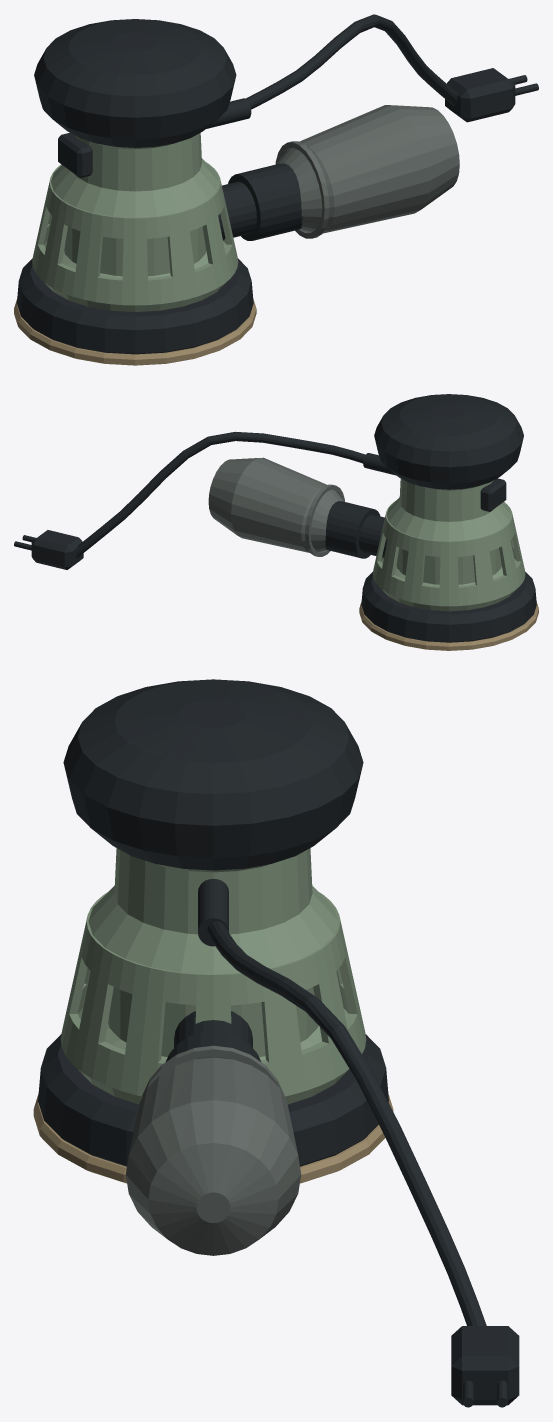
The model's file is full.glb.
3 views of the same model, one above another, from view 1: azimuth 30°, elevation 25°; view 2: azimuth 150°, elevation 25°; view 3: azimuth 270°, elevation 25° (orthographic). The views are drawn at different scales.
Visible parts, largest first — view 1: Broad rounded padded palm cap, Closed generic cloth collection bag, Lower body with twelve open vents, Motor core and narrow waist, Round pad and backing, Dustbag connector collar, Complete authored cable, Nominal127mm abrasive disk, Generic cable plug, Lower hollow dust port, Small supported side switch, Bag connector seam (+1 smaller); view 2: Broad rounded padded palm cap, Closed generic cloth collection bag, Lower body with twelve open vents, Motor core and narrow waist, Round pad and backing, Complete authored cable, Dustbag connector collar, Nominal127mm abrasive disk, Generic cable plug, Lower hollow dust port, Small supported side switch, Bag connector seam (+1 smaller); view 3: Broad rounded padded palm cap, Closed generic cloth collection bag, Motor core and narrow waist, Lower body with twelve open vents, Round pad and backing, Complete authored cable, Generic cable plug, Nominal127mm abrasive disk, High rear cord strain relief, Bag connector seam, Lower hollow dust port, Dustbag connector collar.
Part boxes in pixels (box(x1,y1,x2,y2)): Broad rounded padded palm cap: box(34, 19, 236, 147); Closed generic cloth collection bag: box(276, 105, 459, 233); Lower body with twelve open vents: box(32, 162, 238, 305); Motor core and narrow waist: box(44, 133, 226, 311); Round pad and backing: box(17, 258, 253, 354); Dustbag connector collar: box(228, 163, 302, 240); Complete authored cable: box(245, 14, 457, 109); Nominal127mm abrasive disk: box(14, 298, 256, 365); Generic cable plug: box(445, 68, 515, 122); Lower hollow dust port: box(218, 182, 256, 240); Small supported side switch: box(58, 132, 92, 177); Bag connector seam: box(275, 141, 329, 238); Broad rounded padded palm cap: box(374, 394, 523, 489); Closed generic cloth collection bag: box(208, 457, 344, 552); Lower body with twelve open vents: box(372, 501, 525, 606); Motor core and narrow waist: box(381, 478, 516, 611); Round pad and backing: box(361, 571, 536, 642); Complete authored cable: box(76, 431, 365, 557); Dustbag connector collar: box(325, 501, 380, 558); Nominal127mm abrasive disk: box(359, 602, 538, 650); Generic cable plug: box(31, 530, 83, 569); Lower hollow dust port: box(359, 514, 387, 557); Small supported side switch: box(480, 478, 506, 511); Bag connector seam: box(305, 484, 344, 556); Broad rounded padded palm cap: box(63, 679, 363, 870); Closed generic cloth collection bag: box(125, 1057, 301, 1255); Motor core and narrow waist: box(78, 848, 348, 1104); Lower body with twelve open vents: box(60, 892, 366, 1096); Round pad and backing: box(38, 1034, 388, 1166); Complete authored cable: box(207, 921, 486, 1325); Generic cable plug: box(451, 1326, 519, 1405); Nominal127mm abrasive disk: box(33, 1094, 393, 1183); High rear cord strain relief: box(198, 879, 228, 946); Bag connector seam: box(142, 1045, 284, 1097); Lower hollow dust port: box(174, 1011, 252, 1047); Dustbag connector collar: box(166, 1030, 261, 1061).
Bounding box in the file's own units: 0.3585 × 0.158 × 0.1715.
